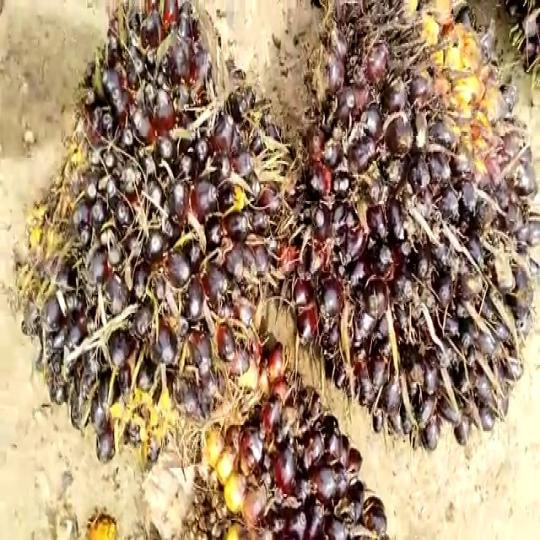mentah: (19, 0, 290, 471), (294, 0, 540, 436), (161, 336, 396, 540)
